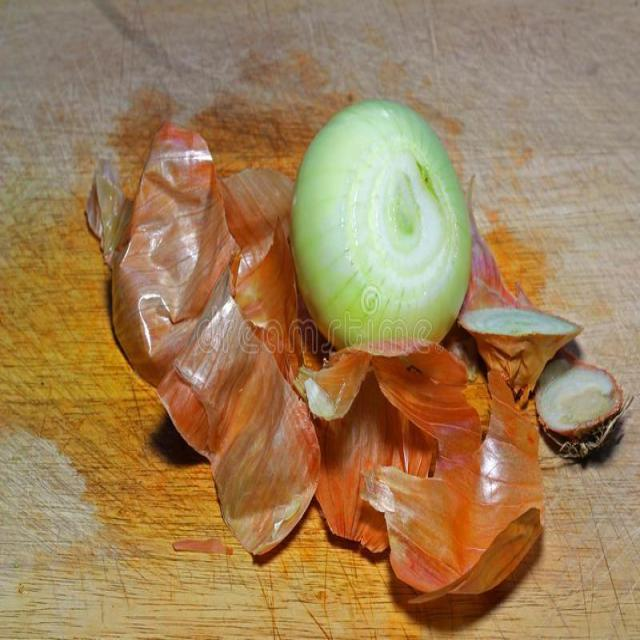Onion: (86, 120, 636, 596), (290, 96, 472, 344)
